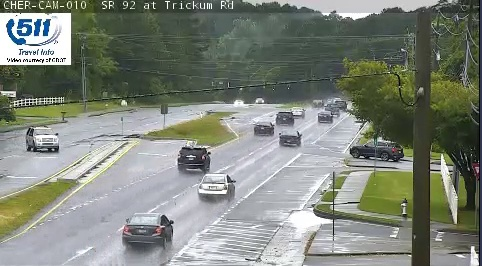car: (123, 212, 174, 244), (198, 173, 235, 198), (177, 146, 210, 169), (279, 129, 300, 145), (253, 122, 274, 136), (275, 111, 294, 125), (317, 111, 333, 123), (289, 107, 305, 119)
